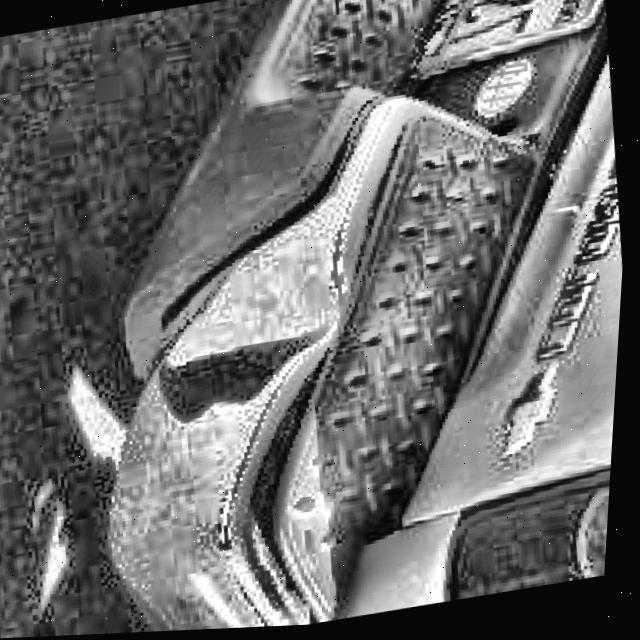bumper_dent: (143, 256, 346, 418)
